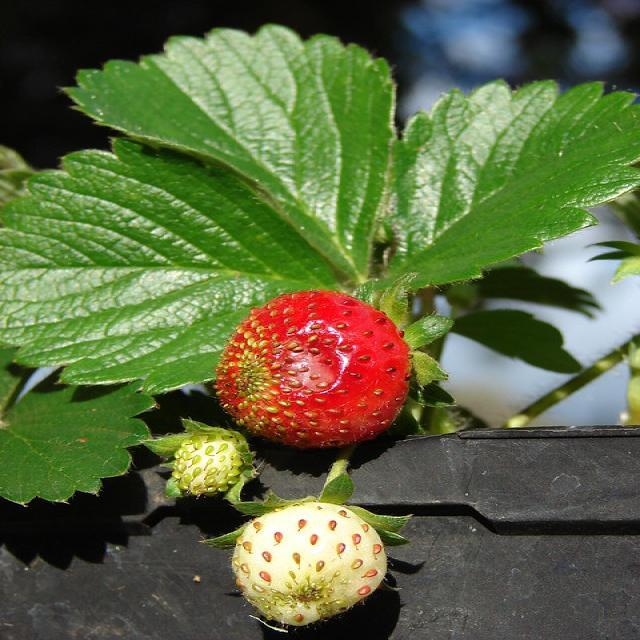ripe: (210, 282, 422, 454)
unripe: (227, 496, 392, 634), (161, 432, 256, 506)
